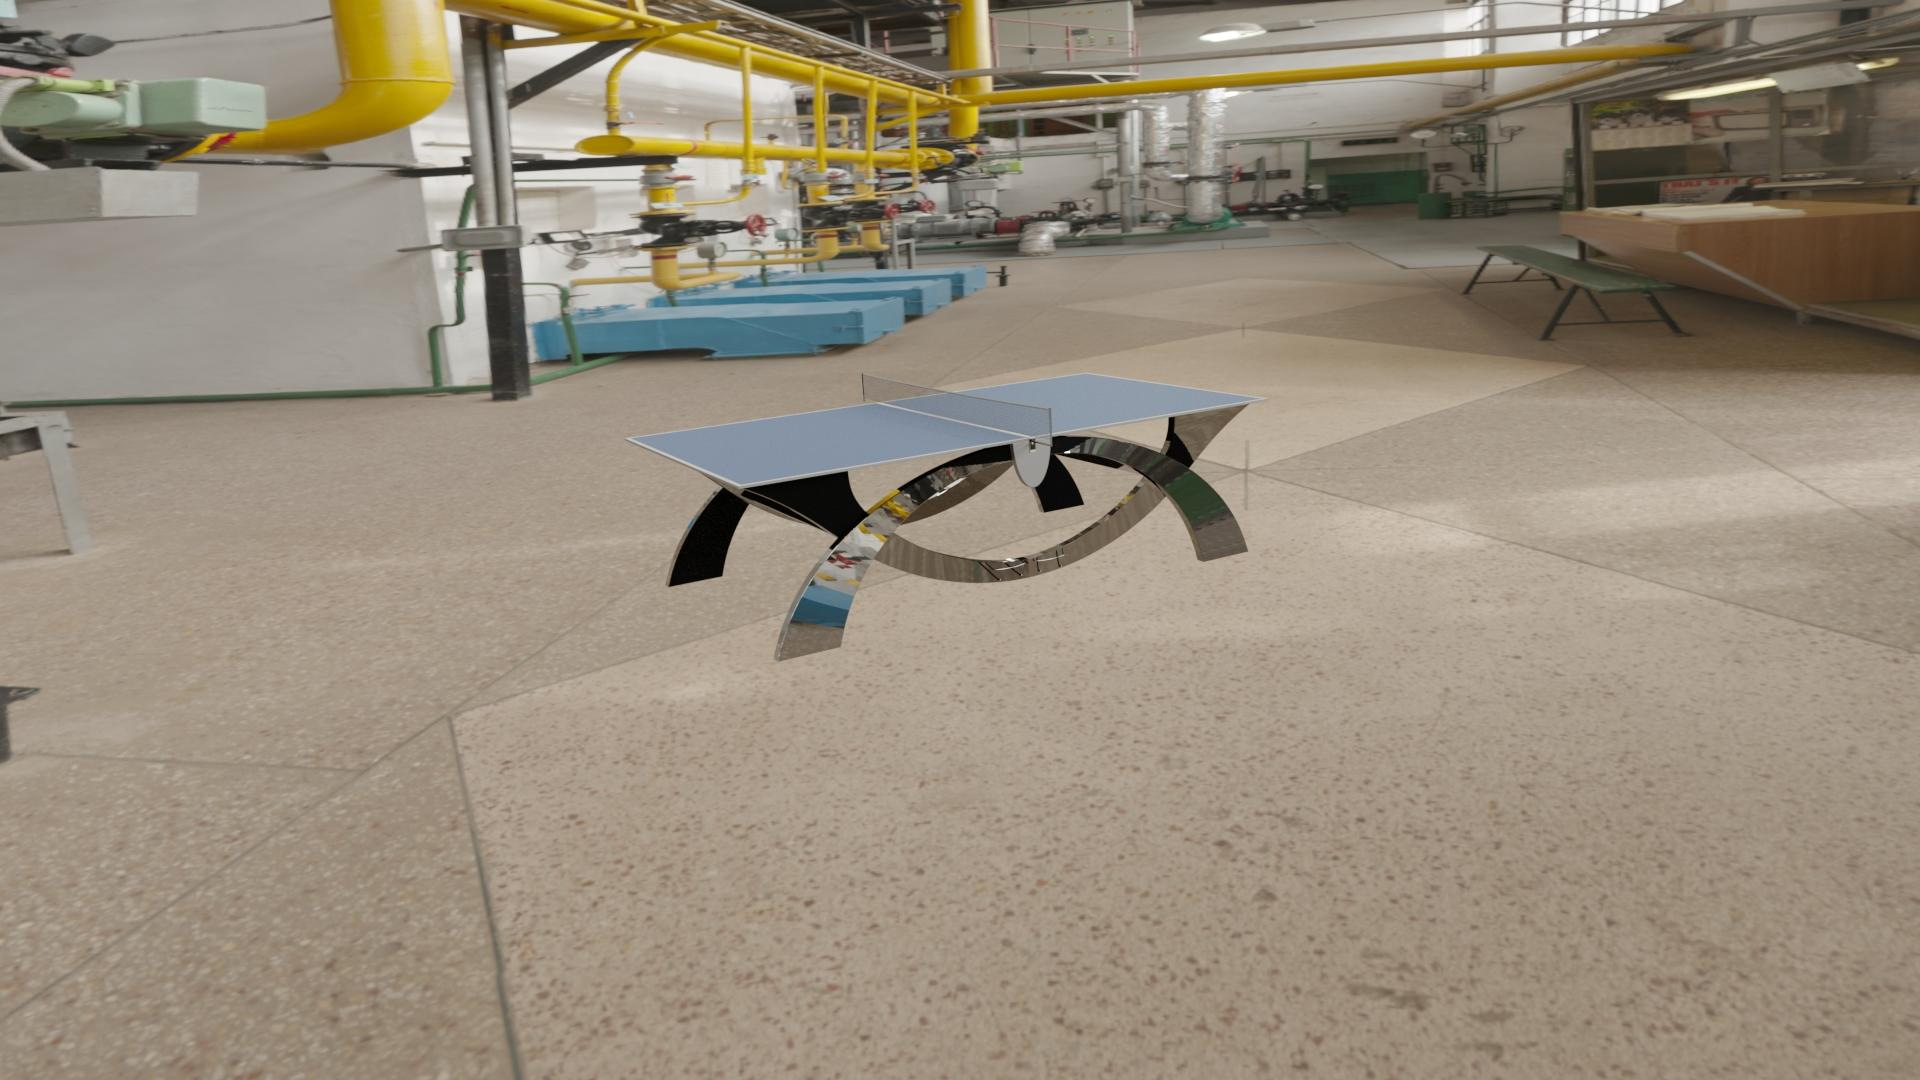table: (630, 373, 1262, 485)
